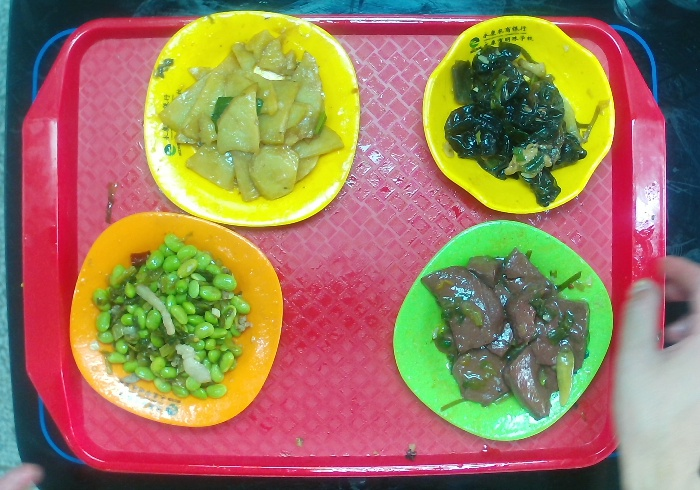YKMZ-Huang_Se_Ao_Bian_Wan: (413, 14, 616, 214)
YKMZ-Huang_Se_Fang_Die: (142, 4, 364, 228)
YKMZ-Ju_Se_Fang_Die: (64, 210, 282, 425)
YKMZ-Lv_Se_Fang_Die: (389, 223, 615, 446)
